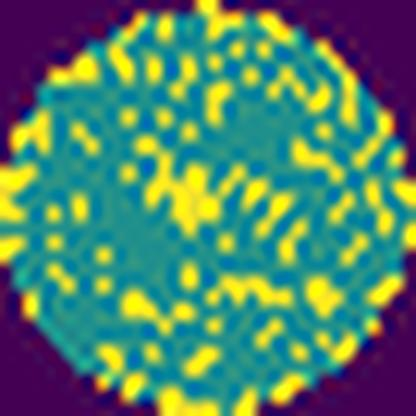Center: (128, 130, 296, 235)
